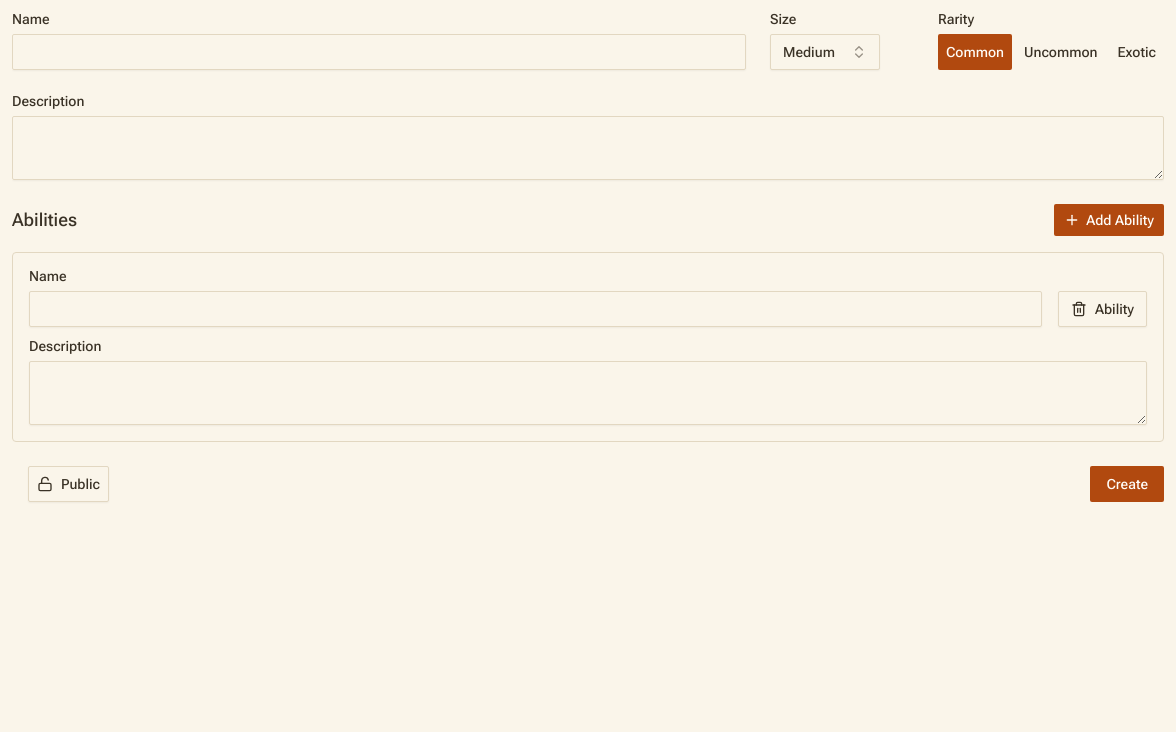
ancestry builder › shows one inline error, retains input and re-enables retry after a failed save
The width and height of the screenshot is (1176, 732).
Step 1. Type "Starfolk" into the 1st field labelled "Name" → (379, 52), box [12,34,746,70]
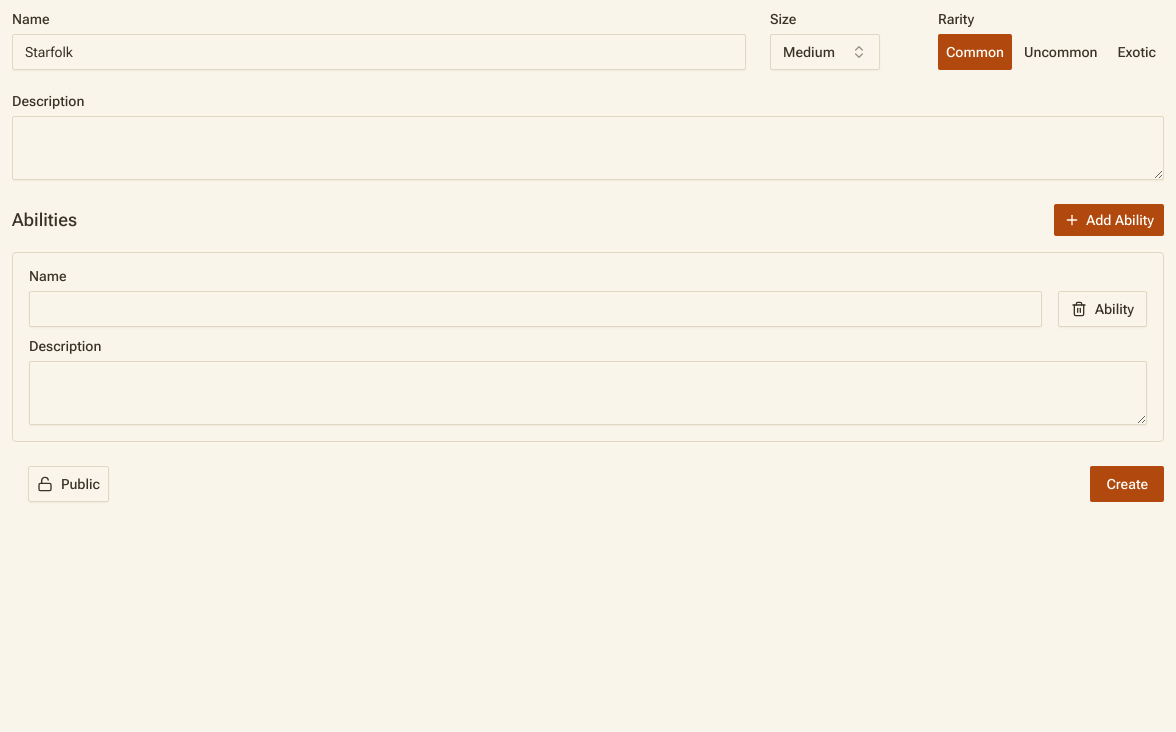
Step 2. Type "Star-born people." into the 1st text box labelled "Description" → (588, 148), box [12,116,1164,180]
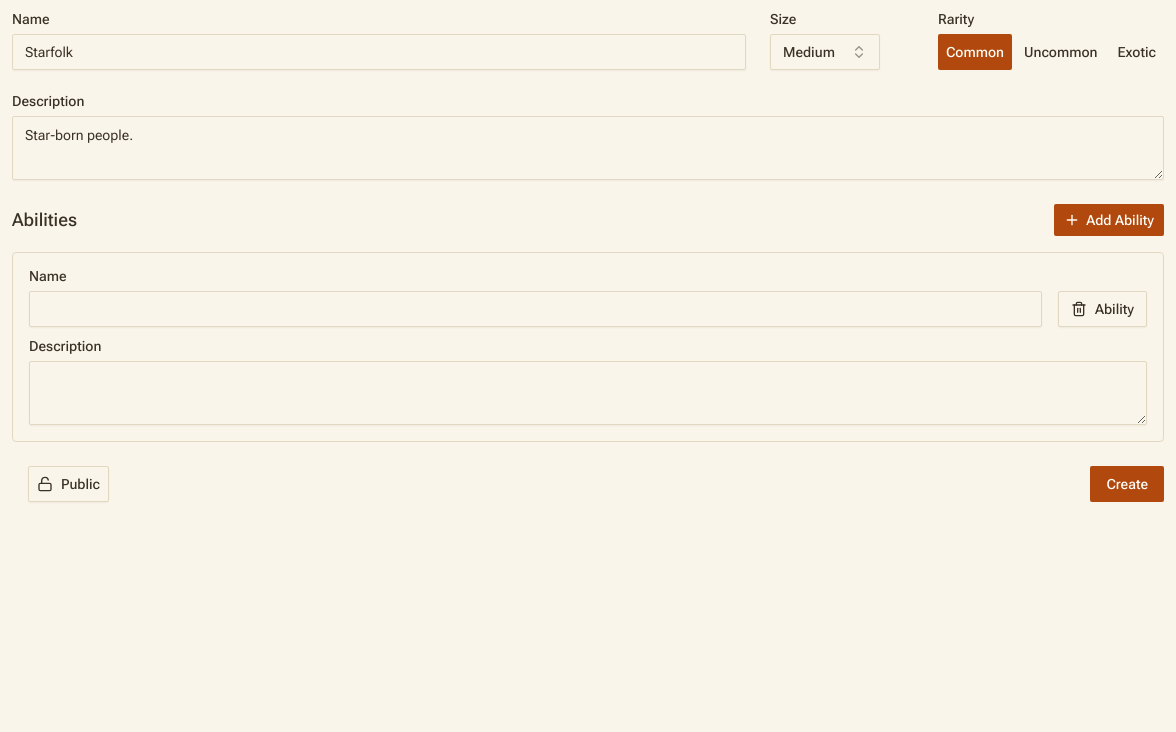
Step 3. Click the button "Ability" → (1102, 309), box [1058,291,1147,327]
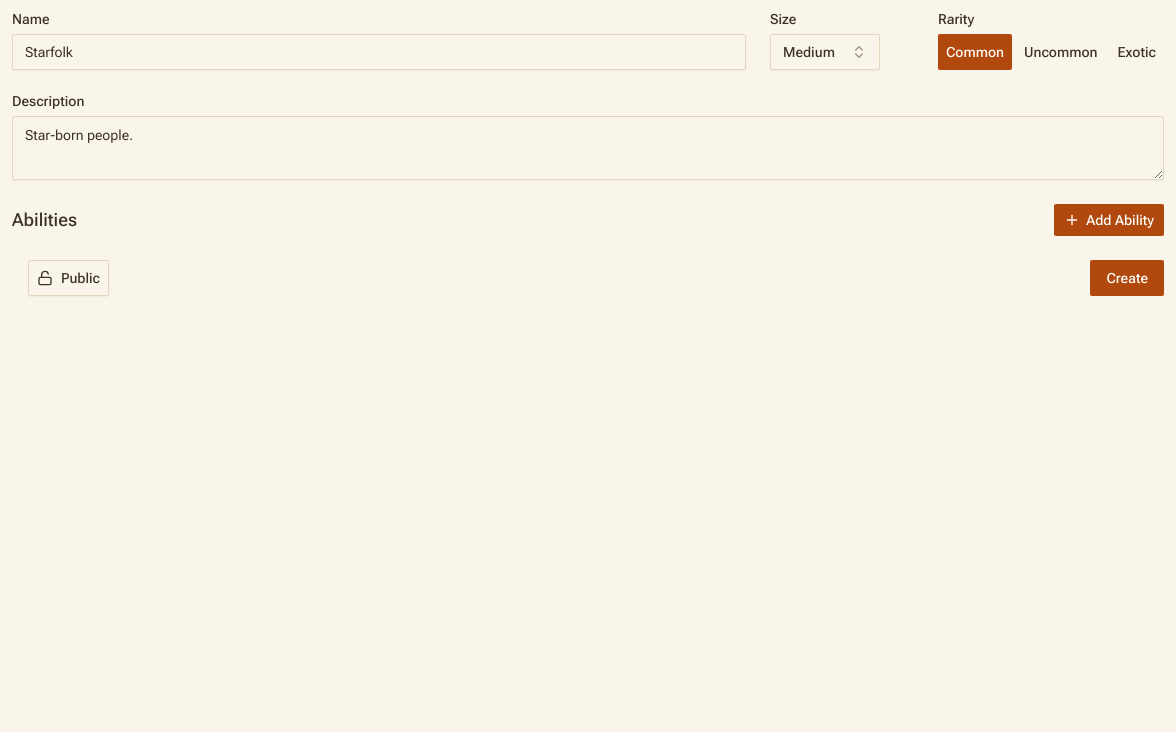
Step 4. Click the button "Create" → (1127, 278), box [1090,260,1164,296]
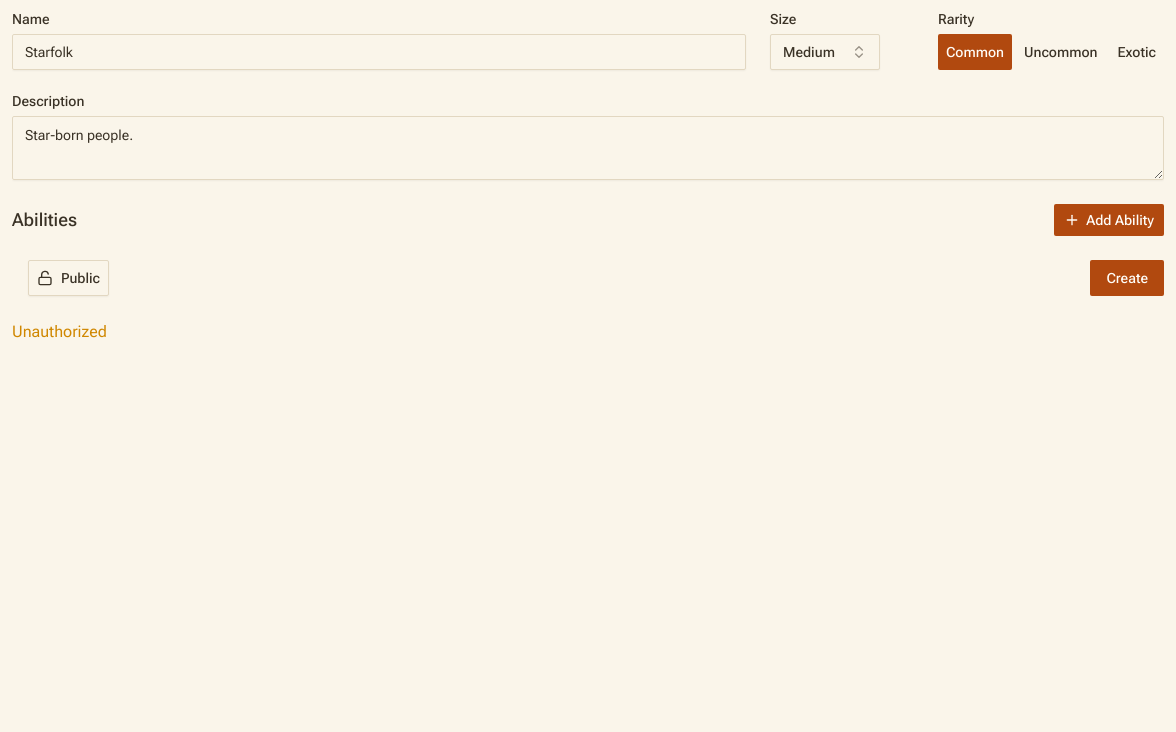
Result: the message reads "Unauthorized" at [12,322,107,341]
